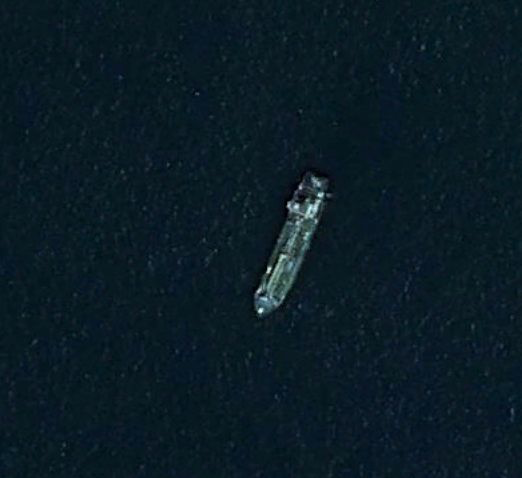boat: (253, 171, 331, 319)
